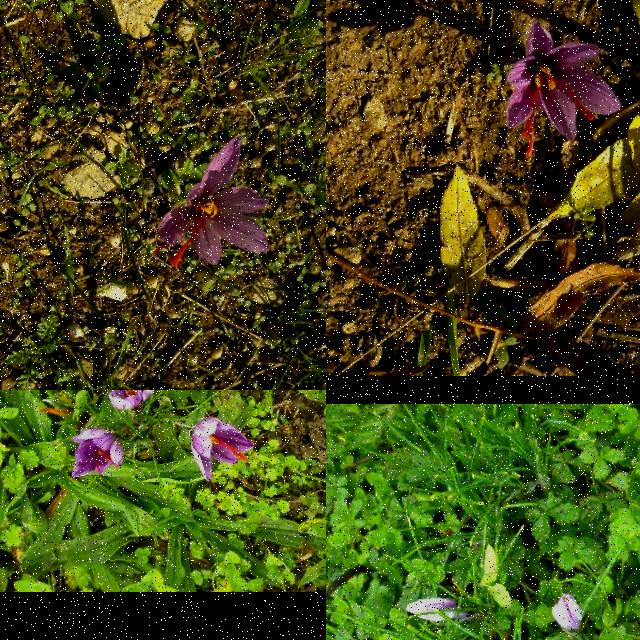flower: (154, 134, 270, 268), (508, 24, 620, 156), (188, 416, 256, 484), (70, 429, 124, 479), (406, 598, 476, 620), (552, 593, 582, 631), (104, 390, 159, 408)
